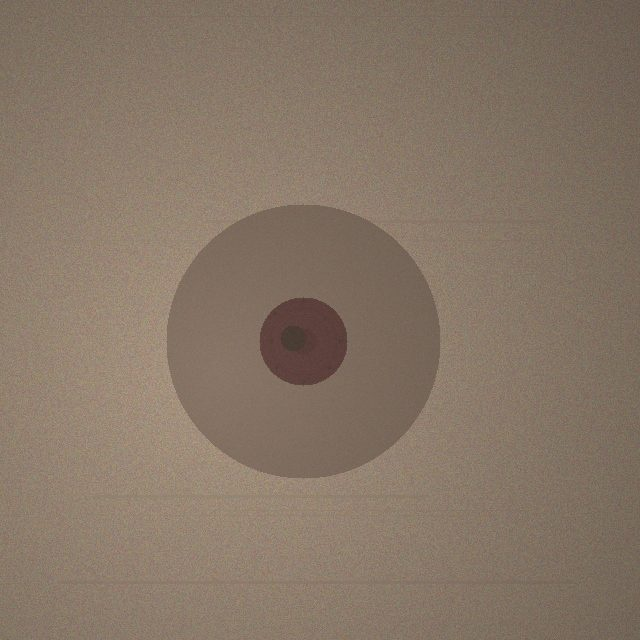cold_weld: (166, 204, 440, 478)
